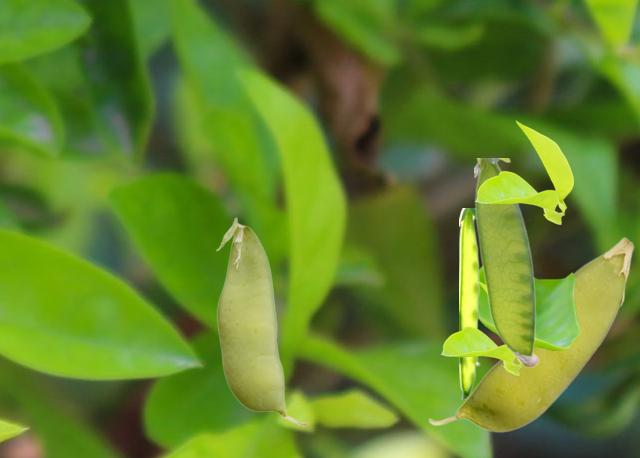pea: (428, 237, 633, 431), (215, 217, 308, 425), (474, 158, 538, 366), (459, 208, 480, 398)
